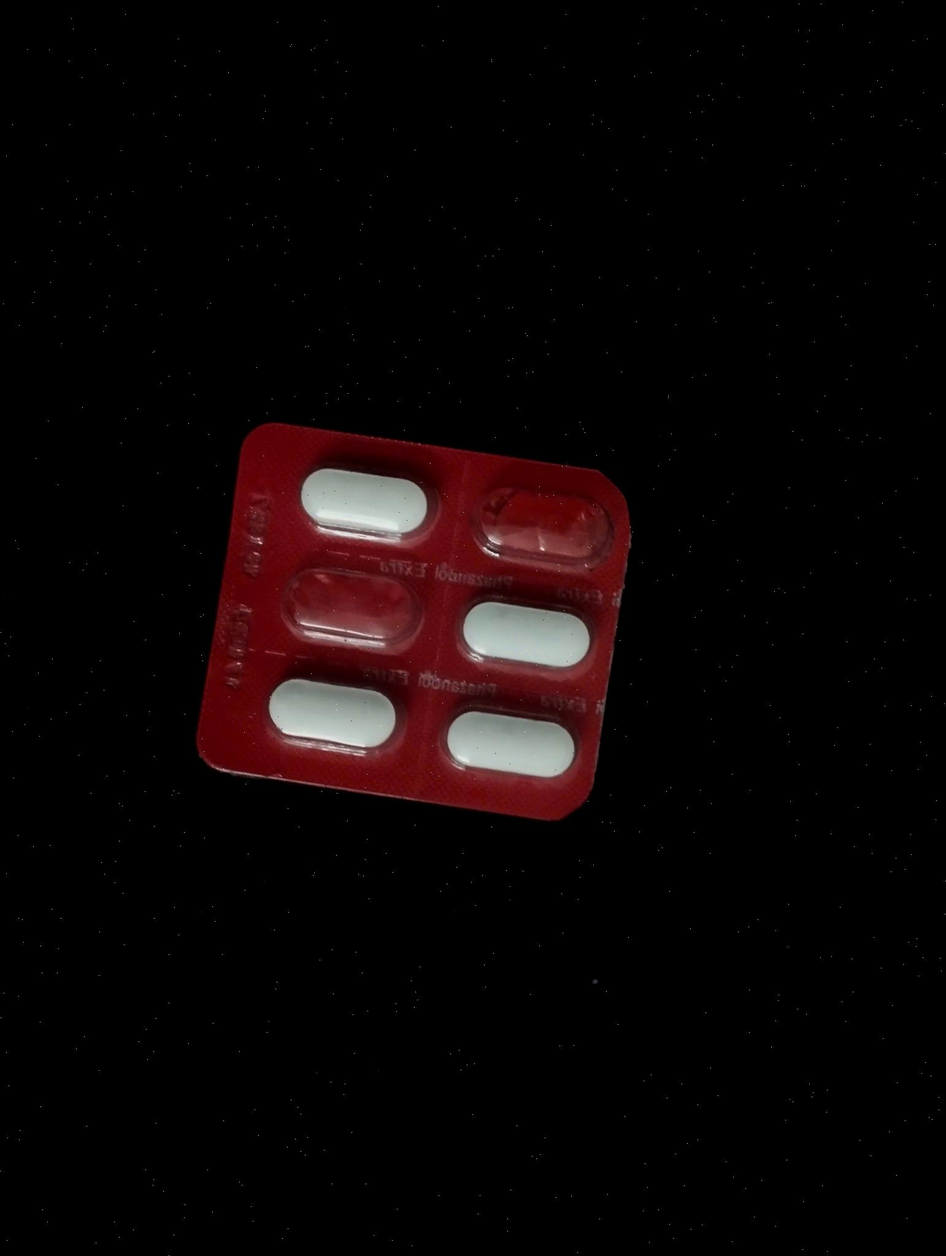Empty: (263, 550, 437, 663), (465, 476, 623, 577)
Full: (284, 452, 438, 554), (456, 586, 608, 684), (439, 694, 586, 790), (256, 666, 410, 757)
